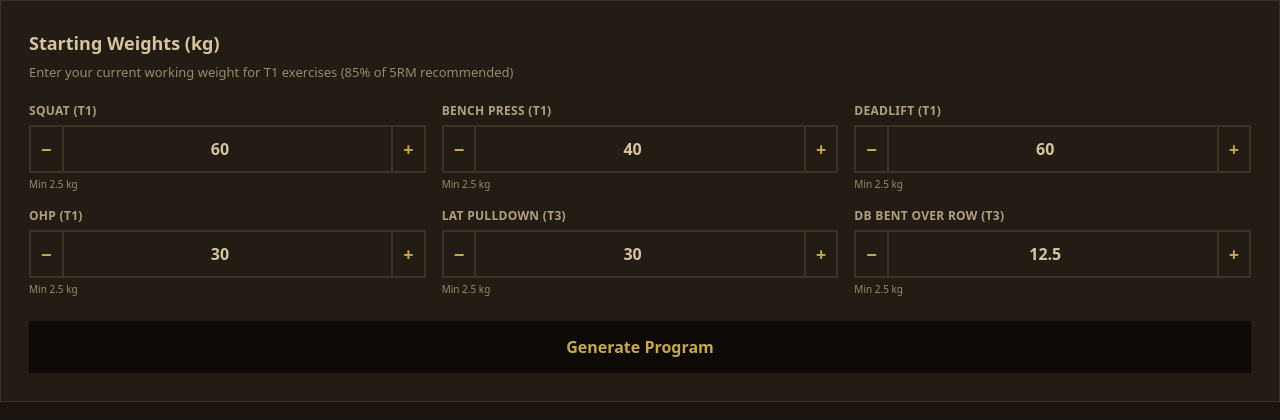
Test case: SetupForm › +/- weight adjustment › should decrease weight when - button is clicked
What coordinates should you click on to do the following:
click the button named "Decrease Squat (T1)"
I would click on:
 (45, 148)
Its box is [29,124,62,172].
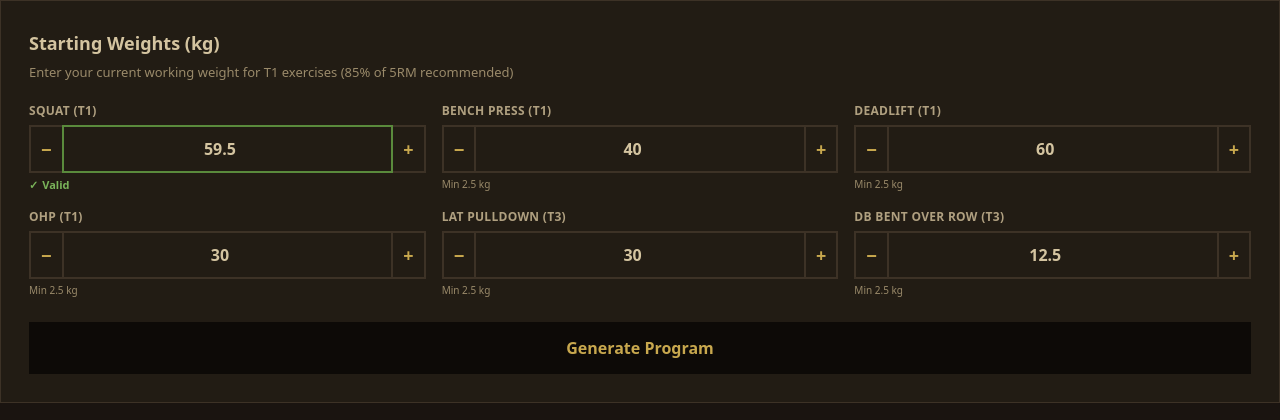
Expected: the number field labelled "Squat (T1)" holds "59.5", [62,124,393,172]
